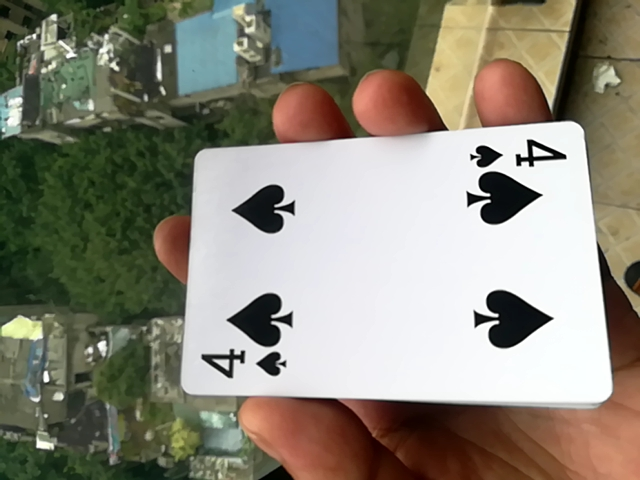ht 4: (166, 129, 619, 412)
